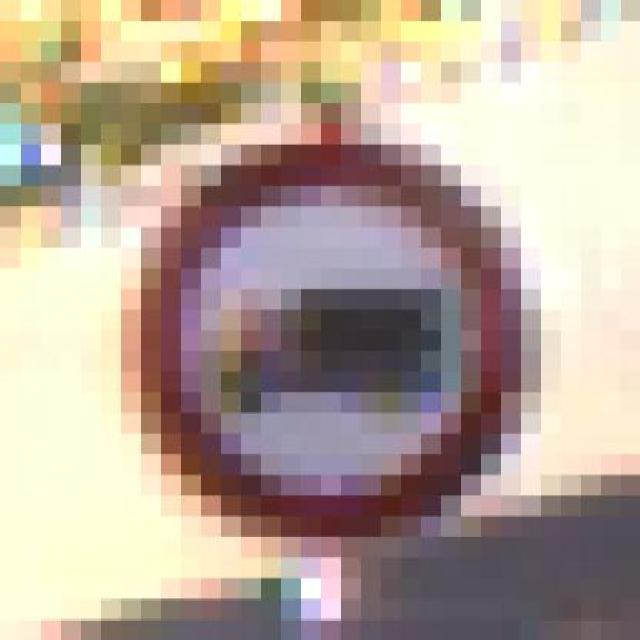Truck traffic is prohibited: (60, 82, 600, 600)
